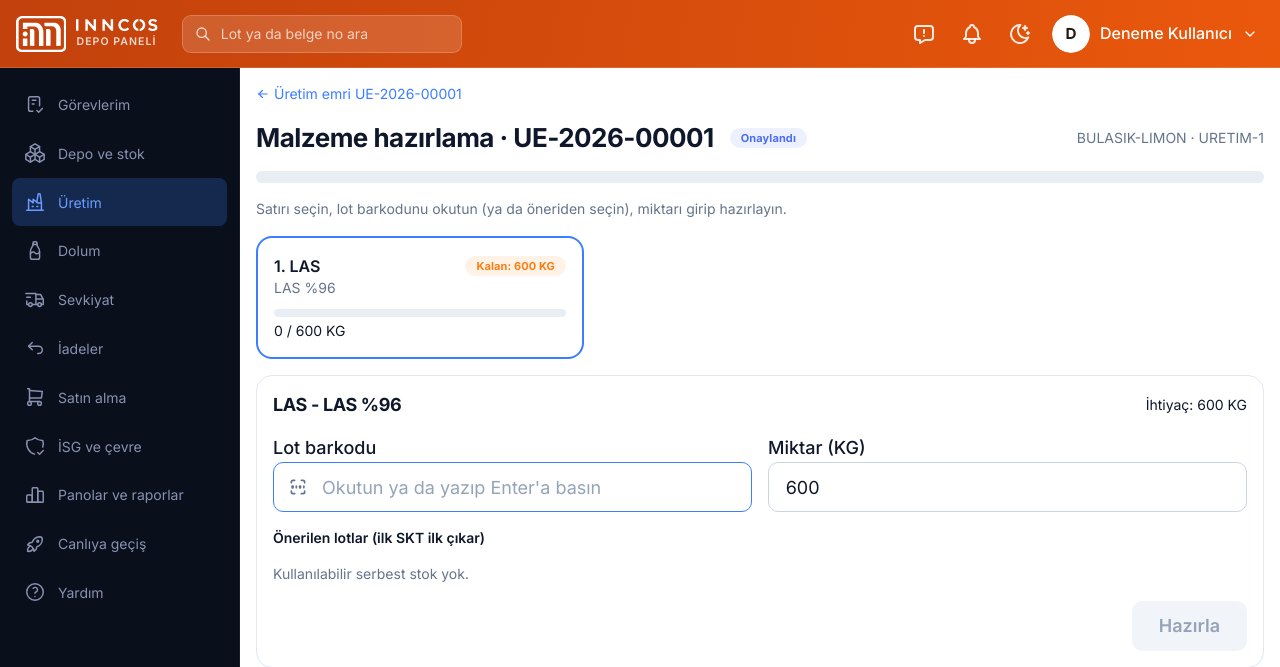
Scenario: malzeme hazırlama › başka malzemenin lotu okutulunca kırmızı uyarı verir, kaydetmez
This screenshot has width=1280, height=667.
In the field labelled "Lot barkodu": point(512, 487) [273, 462, 752, 512], type "H-261015-012"
Then press Enter
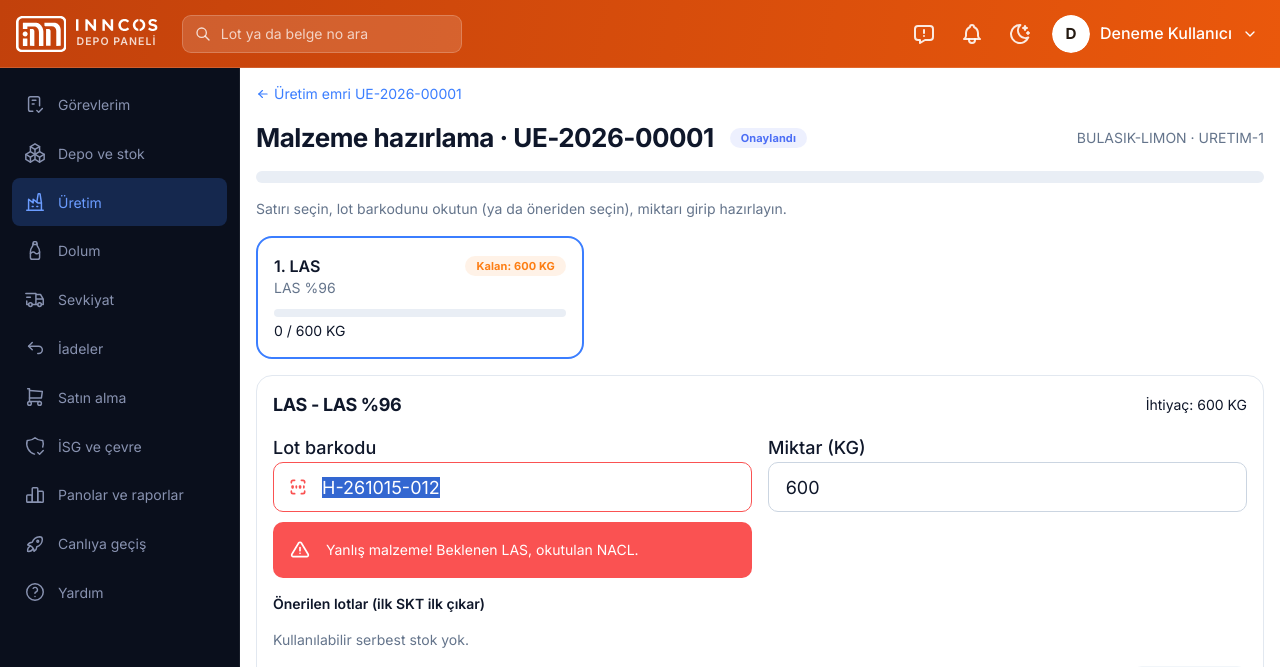
Now the message with test id "scan-error" reads "Yanlış malzeme! Beklenen LAS, okutulan NACL.", box [326, 541, 639, 558]
